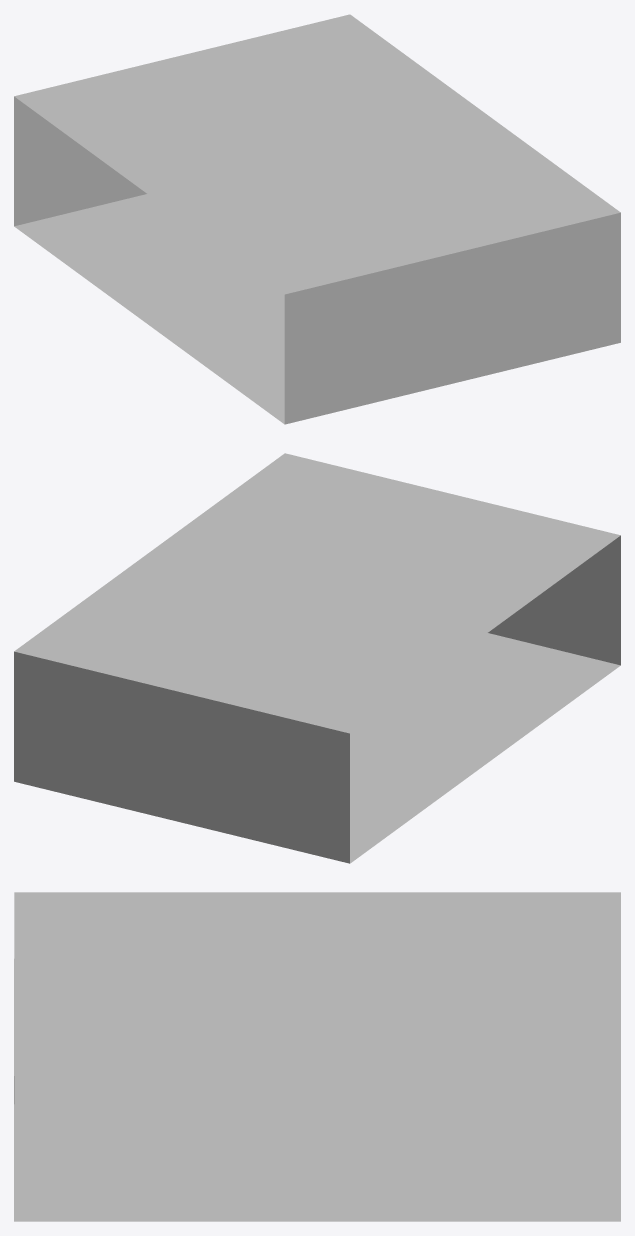
The model's file is Itr_Diningtable_Base_Middle_06.FBX.
3 renders of one model, top to bottom at view 1: azimuth 30°, elevation 25°; view 2: azimuth 150°, elevation 25°; view 3: azimuth 270°, elevation 25°, orthographic. The views are drawn at different scales.
Visible parts, largest first — view 1: Itr_Diningtable_Base_Middle_06; view 2: Itr_Diningtable_Base_Middle_06; view 3: Itr_Diningtable_Base_Middle_06.
Part boxes in pixels (box(x1,y1,x2,y2)): Itr_Diningtable_Base_Middle_06: box(14, 14, 620, 424); Itr_Diningtable_Base_Middle_06: box(14, 453, 620, 863); Itr_Diningtable_Base_Middle_06: box(14, 892, 620, 1221).
Size of the model in its own units: 24.71 by 9.14 by 34.5.
